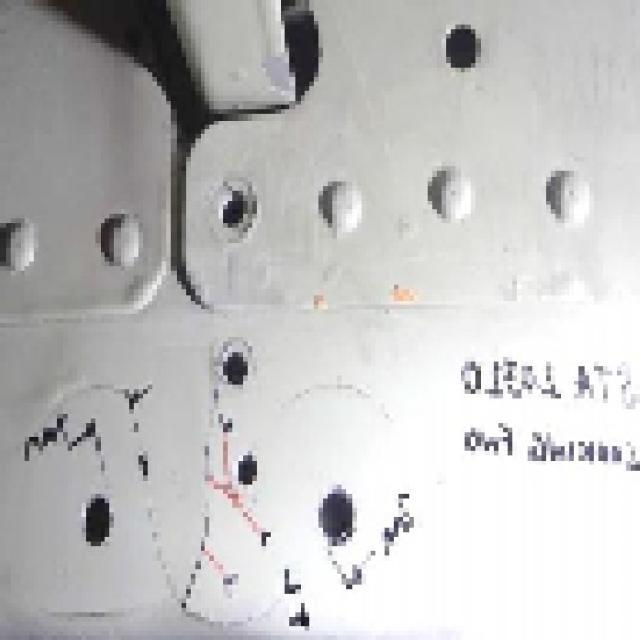crack: (181, 334, 215, 611)
